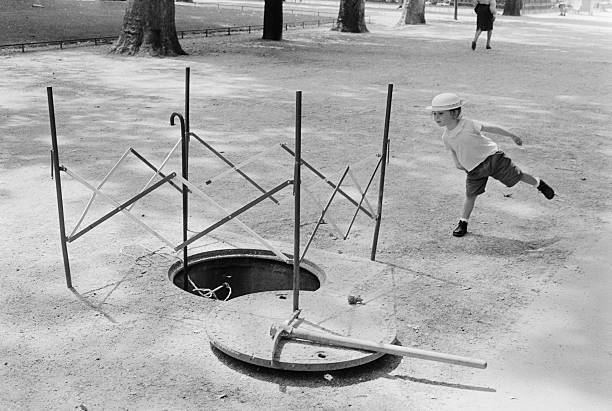open_manhole: (167, 237, 325, 306)
